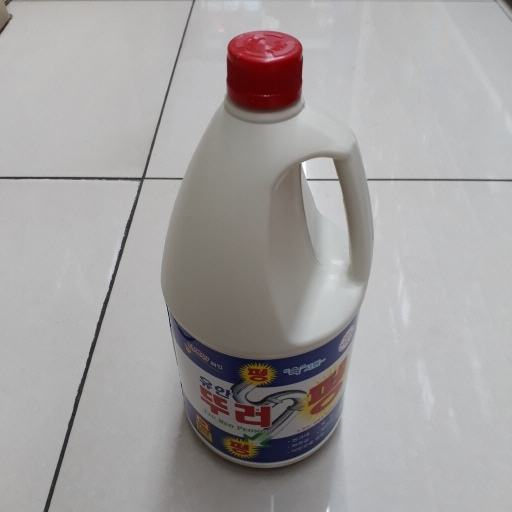Plastic_1: (161, 33, 374, 473)
